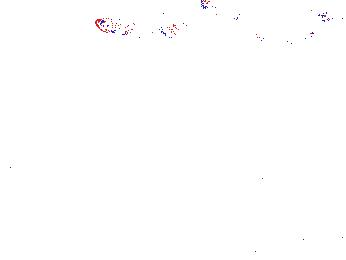X-ray fish: (247, 116, 283, 137)
redtail glassfish: (94, 16, 178, 43), (251, 26, 317, 50), (199, 1, 243, 24)
